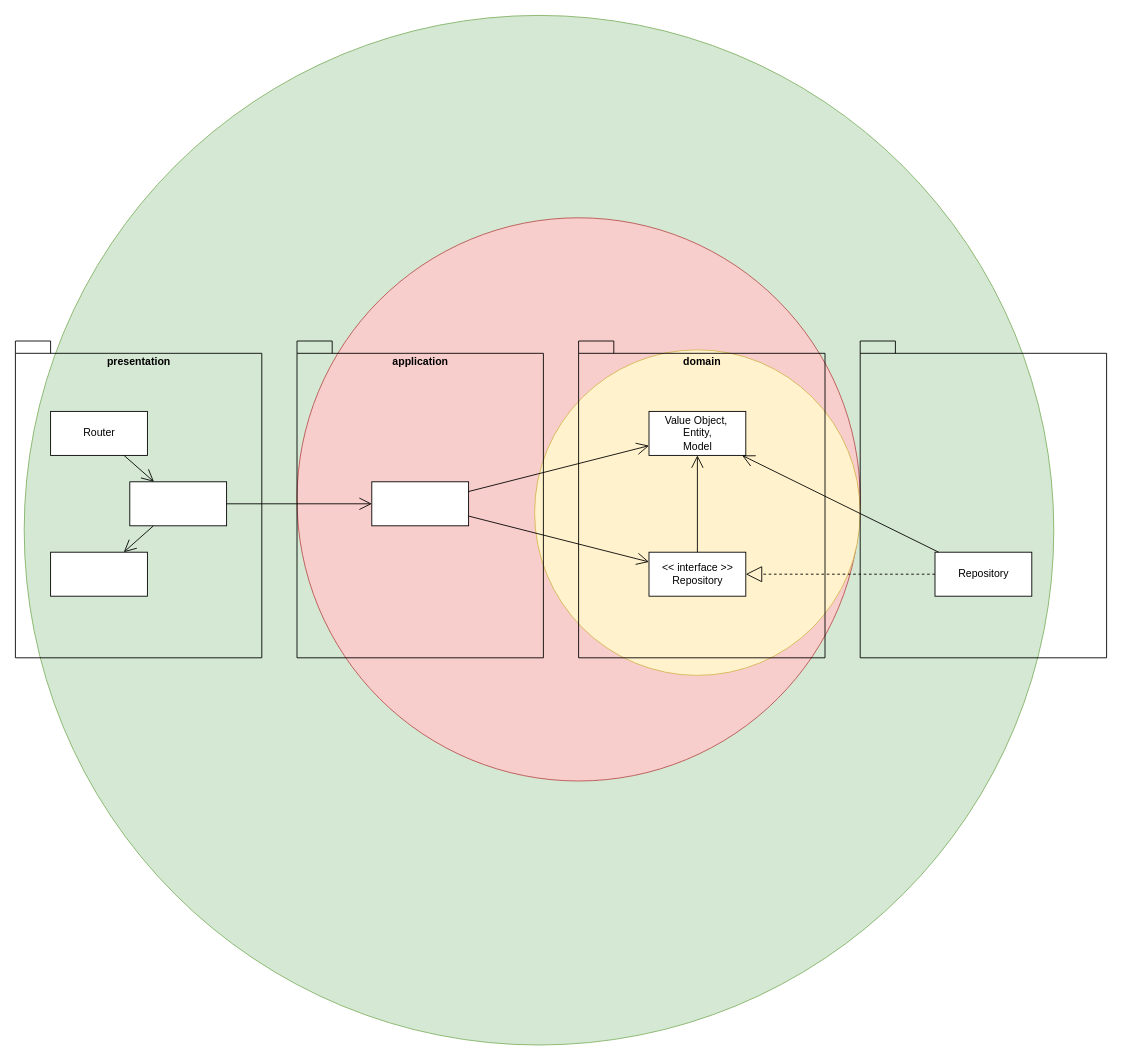
This 1122x1060 diagram has some shape labels left out. Each missing label, with the box of its shape:
Controller: (129, 481, 227, 526)
infrastructure: (859, 340, 1107, 658)
Presenter: (50, 551, 147, 596)
Usecase: (371, 481, 469, 526)
